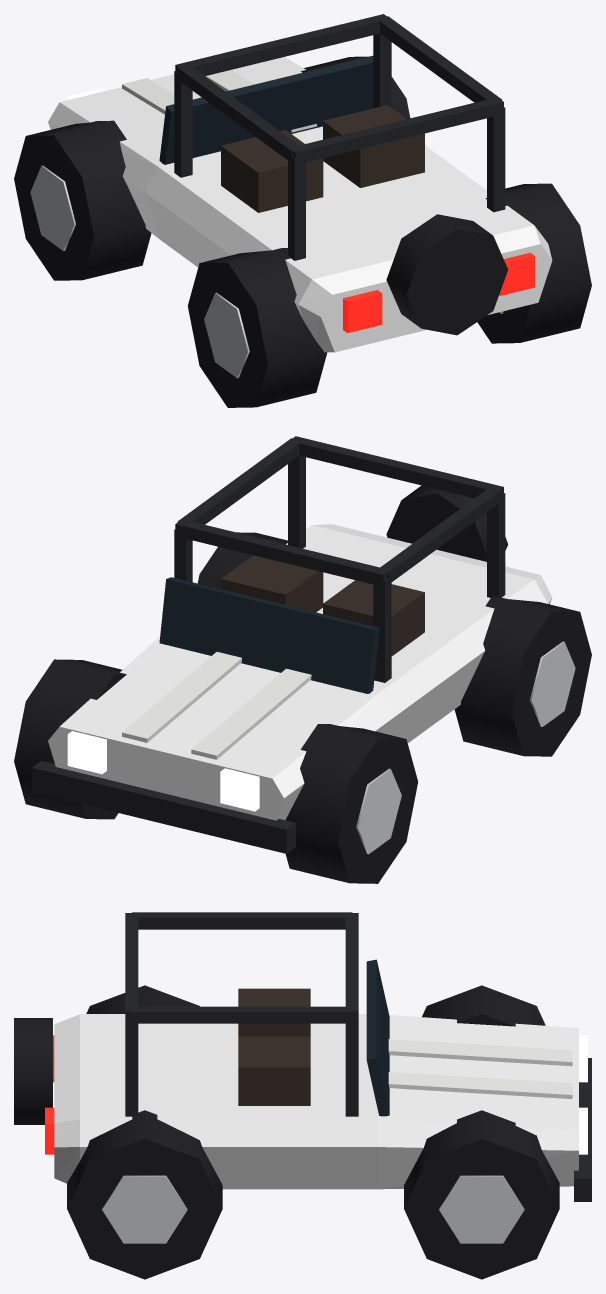
File: jeep.glb
3 renders of one model, top to bottom at view 1: azimuth 30°, elevation 25°; view 2: azimuth 150°, elevation 25°; view 3: azimuth 270°, elevation 25°, orthographic. The views are drawn at different scales.
Parts seen in each view (by area): view 1: object 1, wheel (×4), object 16, object 2, wheel-hub (×2), object 8, object 3, object 13, object 14, object 4, object 9, object 10 (+7 smaller); view 2: object 1, wheel (×4), object 2, object 15, wheel-hub (×2), object 16, object 14, object 8, object 13, object 3, object 7, object 12 (+8 smaller); view 3: object 1, wheel (×4), wheel-hub (×2), object 8, object 16, object 9, object 4, object 7, object 12, object 2, object 3, object 14 (+4 smaller).
Part boxes in pixels (bbox=[...]): object 1: bbox=[48, 57, 552, 352]; wheel (×4): bbox=[14, 56, 591, 407]; object 16: bbox=[386, 214, 508, 335]; object 2: bbox=[159, 55, 373, 164]; wheel-hub (×2): bbox=[30, 165, 249, 378]; object 8: bbox=[323, 105, 424, 187]; object 3: bbox=[221, 130, 323, 212]; object 13: bbox=[292, 97, 503, 162]; object 14: bbox=[175, 14, 389, 75]; object 4: bbox=[177, 65, 302, 159]; object 9: bbox=[377, 16, 501, 102]; object 10: bbox=[487, 107, 505, 212]; object 1: bbox=[48, 524, 552, 820]; wheel (×4): bbox=[14, 532, 591, 883]; object 2: bbox=[159, 577, 379, 693]; object 15: bbox=[32, 761, 295, 853]; wheel-hub (×2): bbox=[356, 641, 575, 854]; object 16: bbox=[386, 485, 507, 561]; object 14: bbox=[175, 519, 389, 586]; object 8: bbox=[221, 555, 323, 612]; object 13: bbox=[291, 436, 503, 498]; object 3: bbox=[323, 580, 424, 656]; object 7: bbox=[191, 668, 311, 759]; object 12: bbox=[122, 652, 241, 742]; object 1: bbox=[54, 1014, 578, 1189]; wheel (×4): bbox=[67, 985, 559, 1279]; wheel-hub (×2): bbox=[102, 1175, 524, 1243]; object 8: bbox=[238, 1036, 310, 1105]; object 16: bbox=[14, 1018, 52, 1124]; object 9: bbox=[132, 1006, 352, 1023]; object 4: bbox=[132, 912, 352, 929]; object 7: bbox=[388, 1039, 572, 1066]; object 12: bbox=[388, 1072, 572, 1098]; object 2: bbox=[366, 959, 389, 1116]; object 3: bbox=[238, 988, 310, 1036]; object 14: bbox=[345, 913, 358, 1017].
Size of the model in its own units: 2.83 by 2.05 by 4.46.
